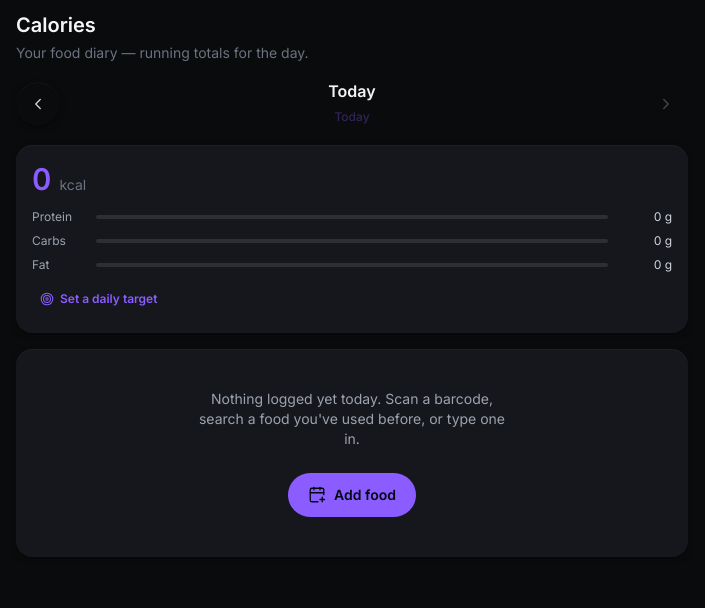
Test: CaloriesPanel › a failed target save keeps the editor open with an inline retry
Click the button with test id "set-target-btn".
click(99, 299)  # box [32,281,166,317]
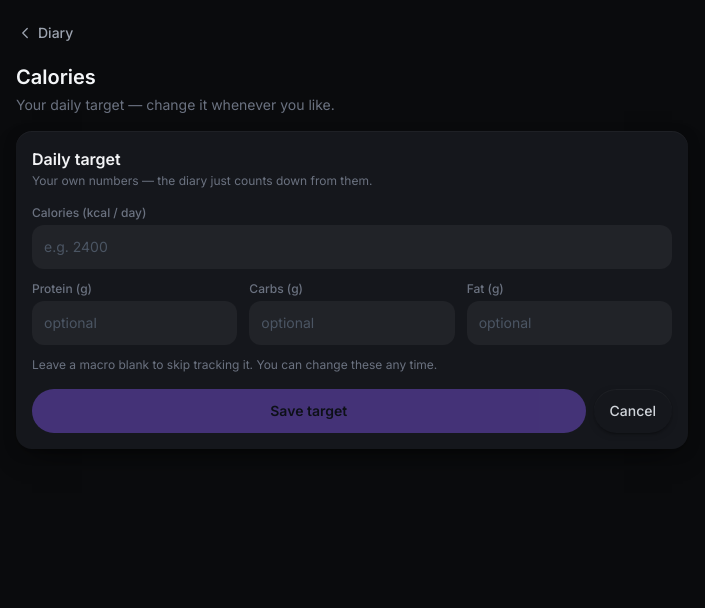
Type "2000" into the field with test id "te-kcal".
click(352, 247); type("2000")  # box [32,225,672,269]
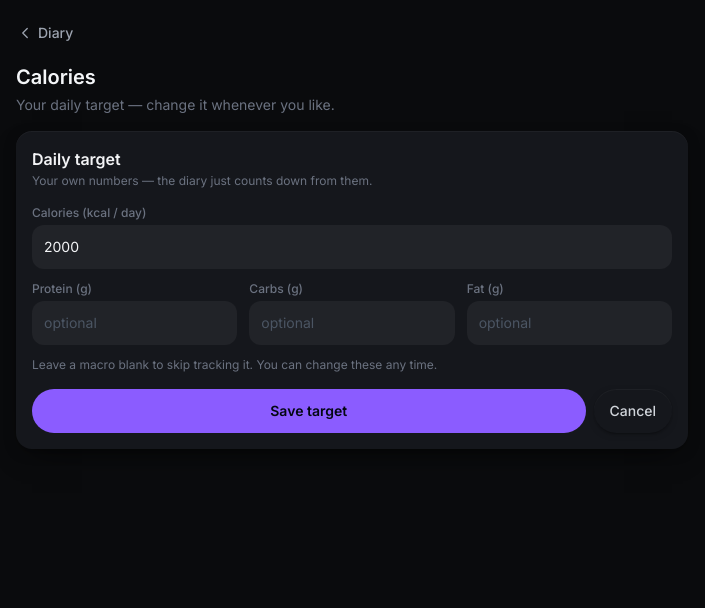
Click the button with test id "te-save".
click(309, 411)  # box [32,389,586,433]
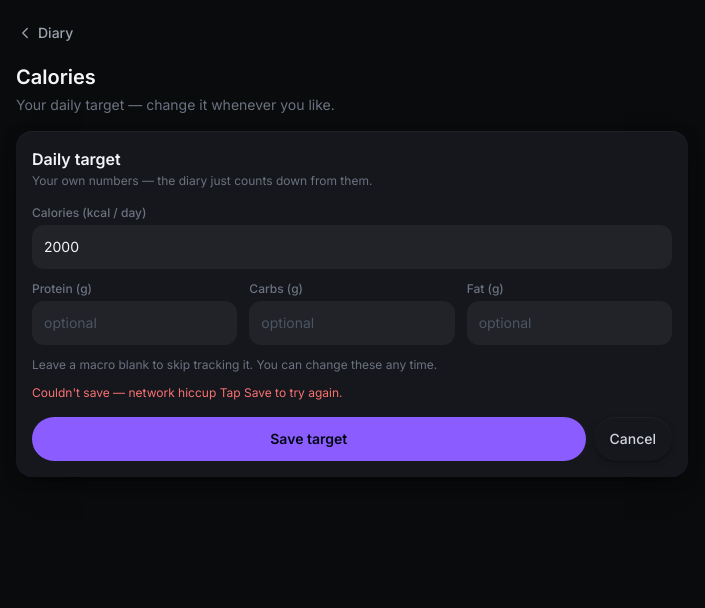
Expected: the form with test id "target-editor" is shown, [16,131,688,477]
Expected: the message with test id "te-error" shows "network hiccup", [128,385,216,400]
Click the button with test id "te-save".
click(309, 439)  # box [32,417,586,461]
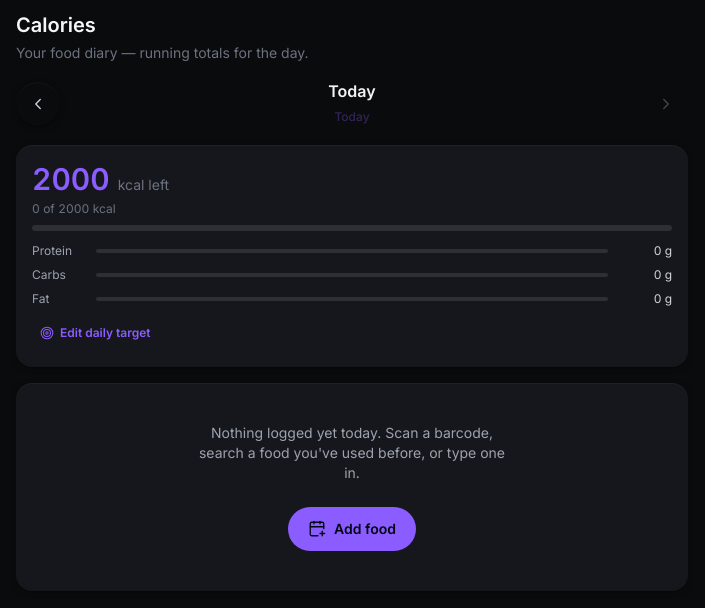
Expected: the text with test id "remaining-kcal" reads "2000", [32,161,110,197]
